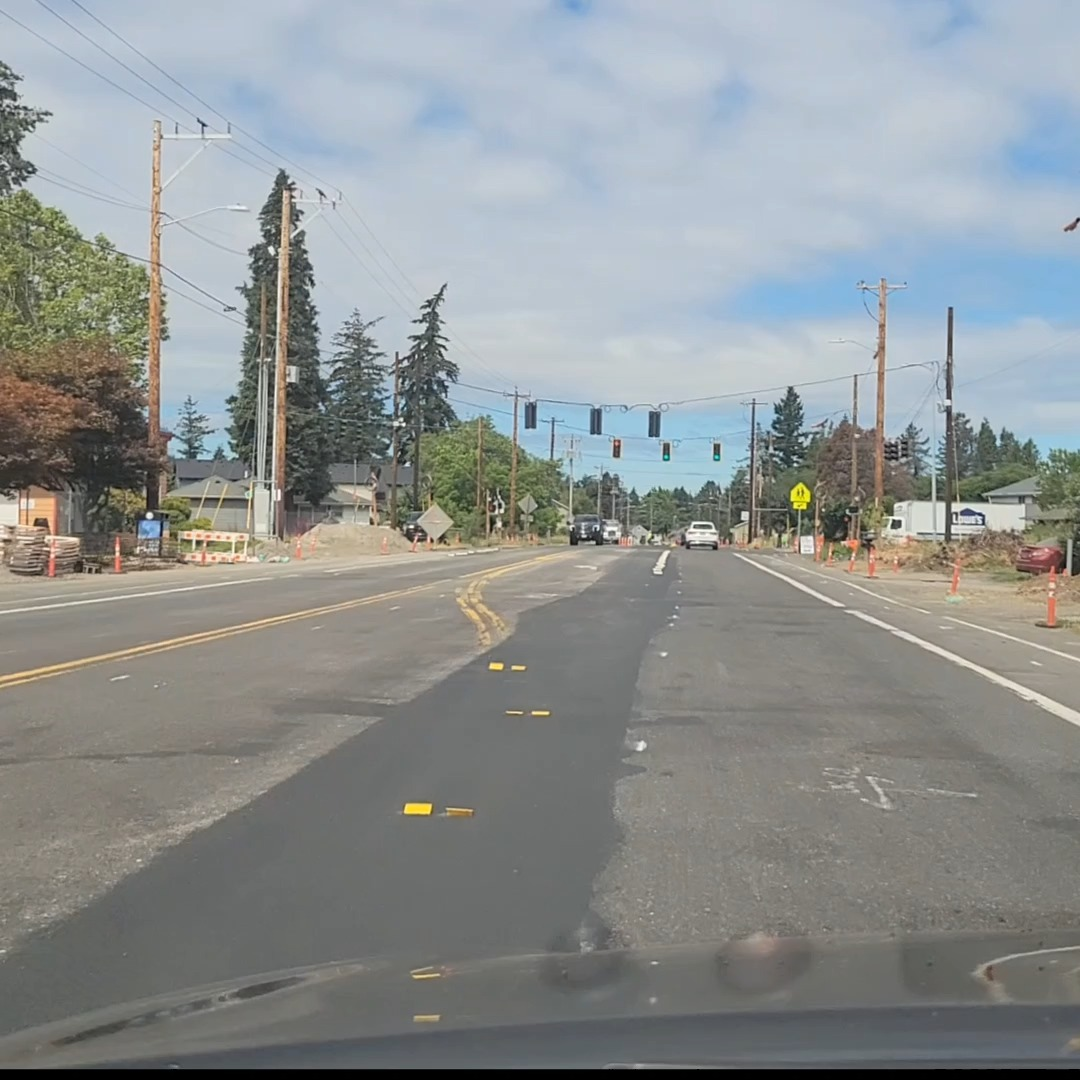car: (569, 514, 605, 545), (681, 521, 719, 550), (402, 514, 432, 541), (599, 519, 622, 544)
crosswalk-sign: (790, 482, 810, 509)
delineator: (1035, 565, 1062, 627), (946, 559, 963, 602), (112, 536, 122, 573), (47, 541, 56, 577), (848, 541, 858, 573), (867, 546, 876, 577), (308, 535, 317, 556), (825, 541, 833, 563), (832, 546, 843, 562), (410, 533, 419, 552), (891, 550, 899, 571), (816, 536, 823, 558), (380, 535, 388, 554), (295, 537, 302, 558), (504, 533, 516, 545), (791, 533, 798, 553), (200, 548, 208, 565), (455, 532, 460, 544), (528, 532, 533, 541)
